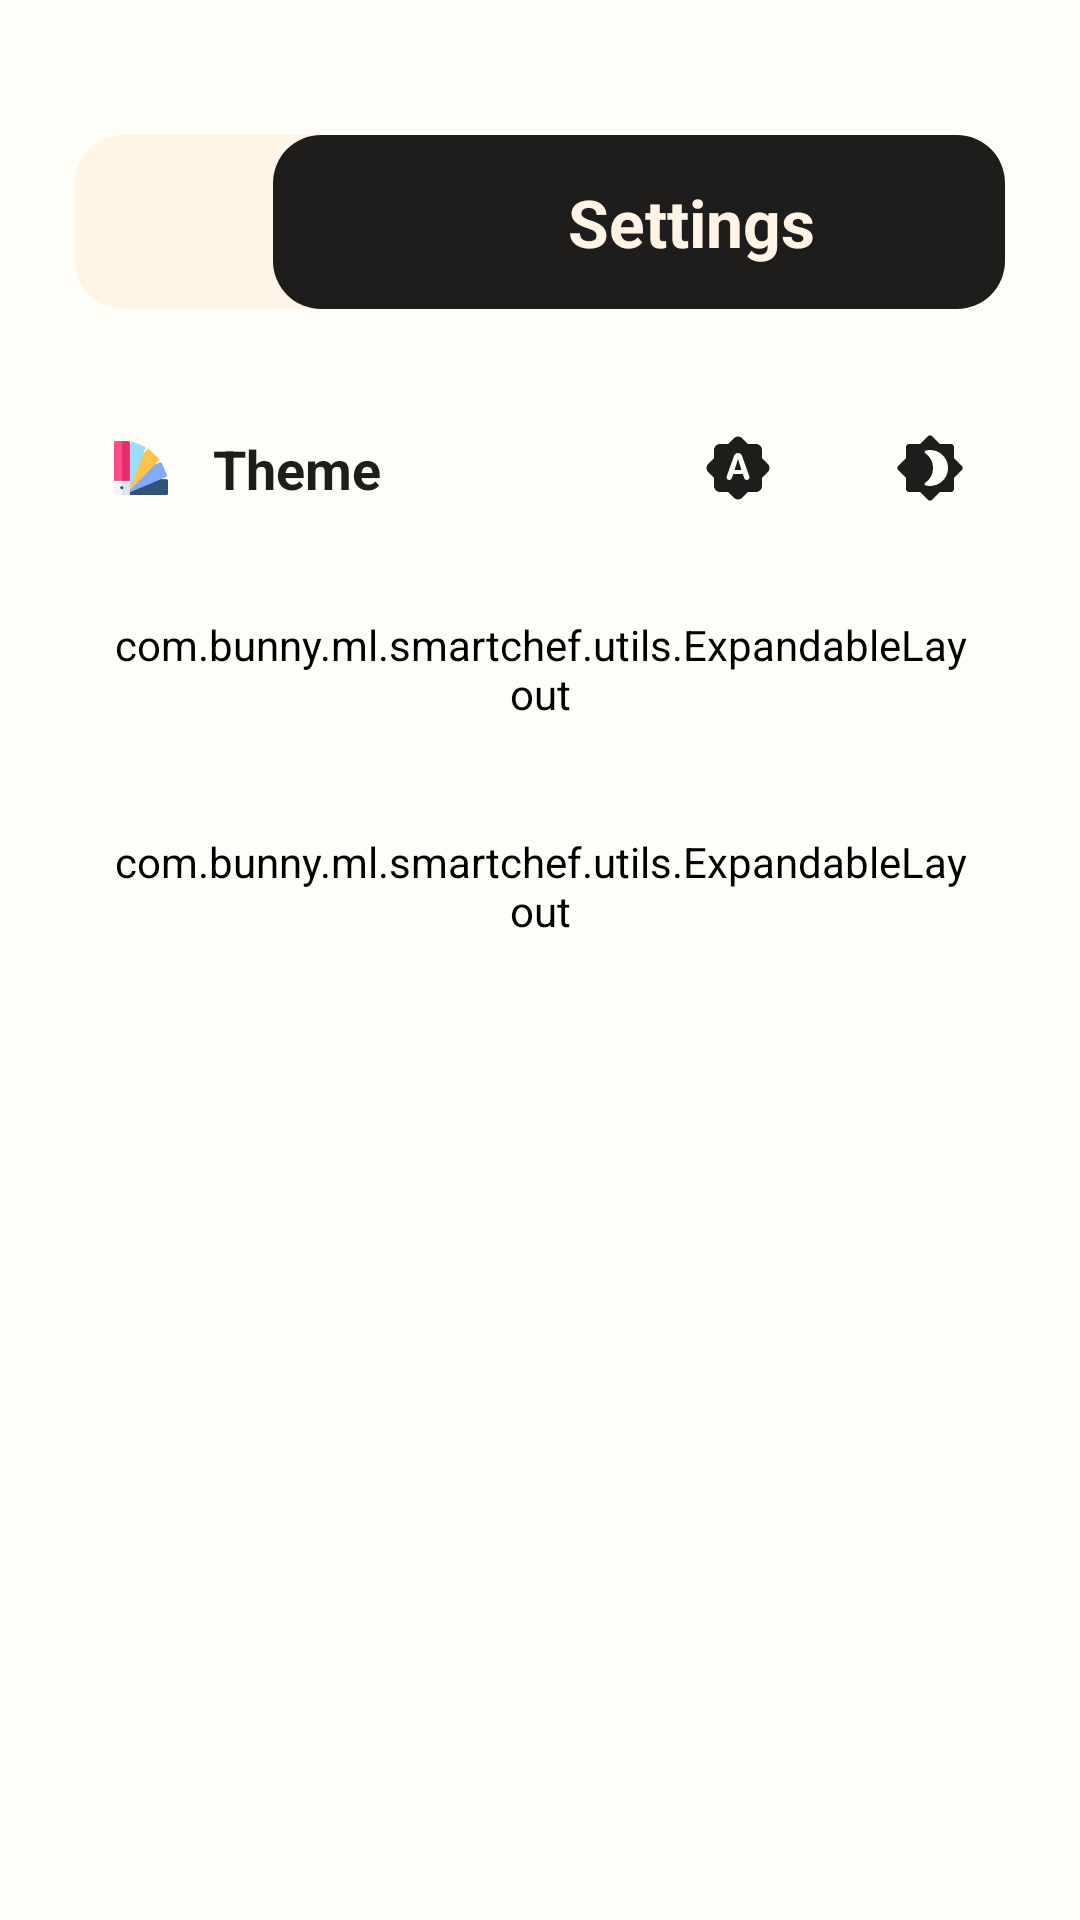

Screen size 1080px x 1920px. Icon name, then its center in pixels as (x,y):
Theme auto button: (738,468)
Theme dark button: (930,468)
